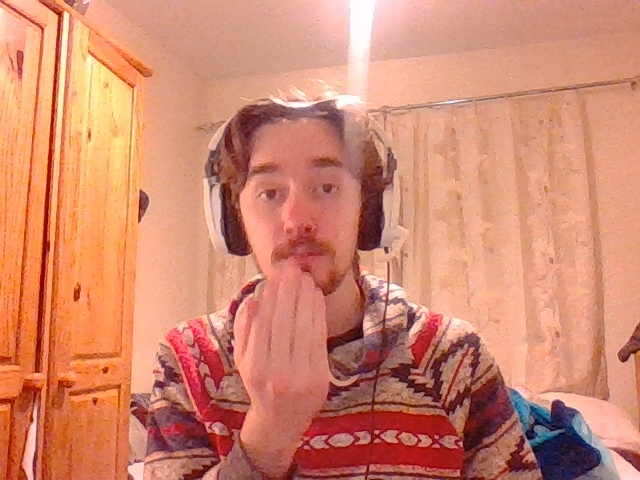thanks: (235, 257, 329, 442)
